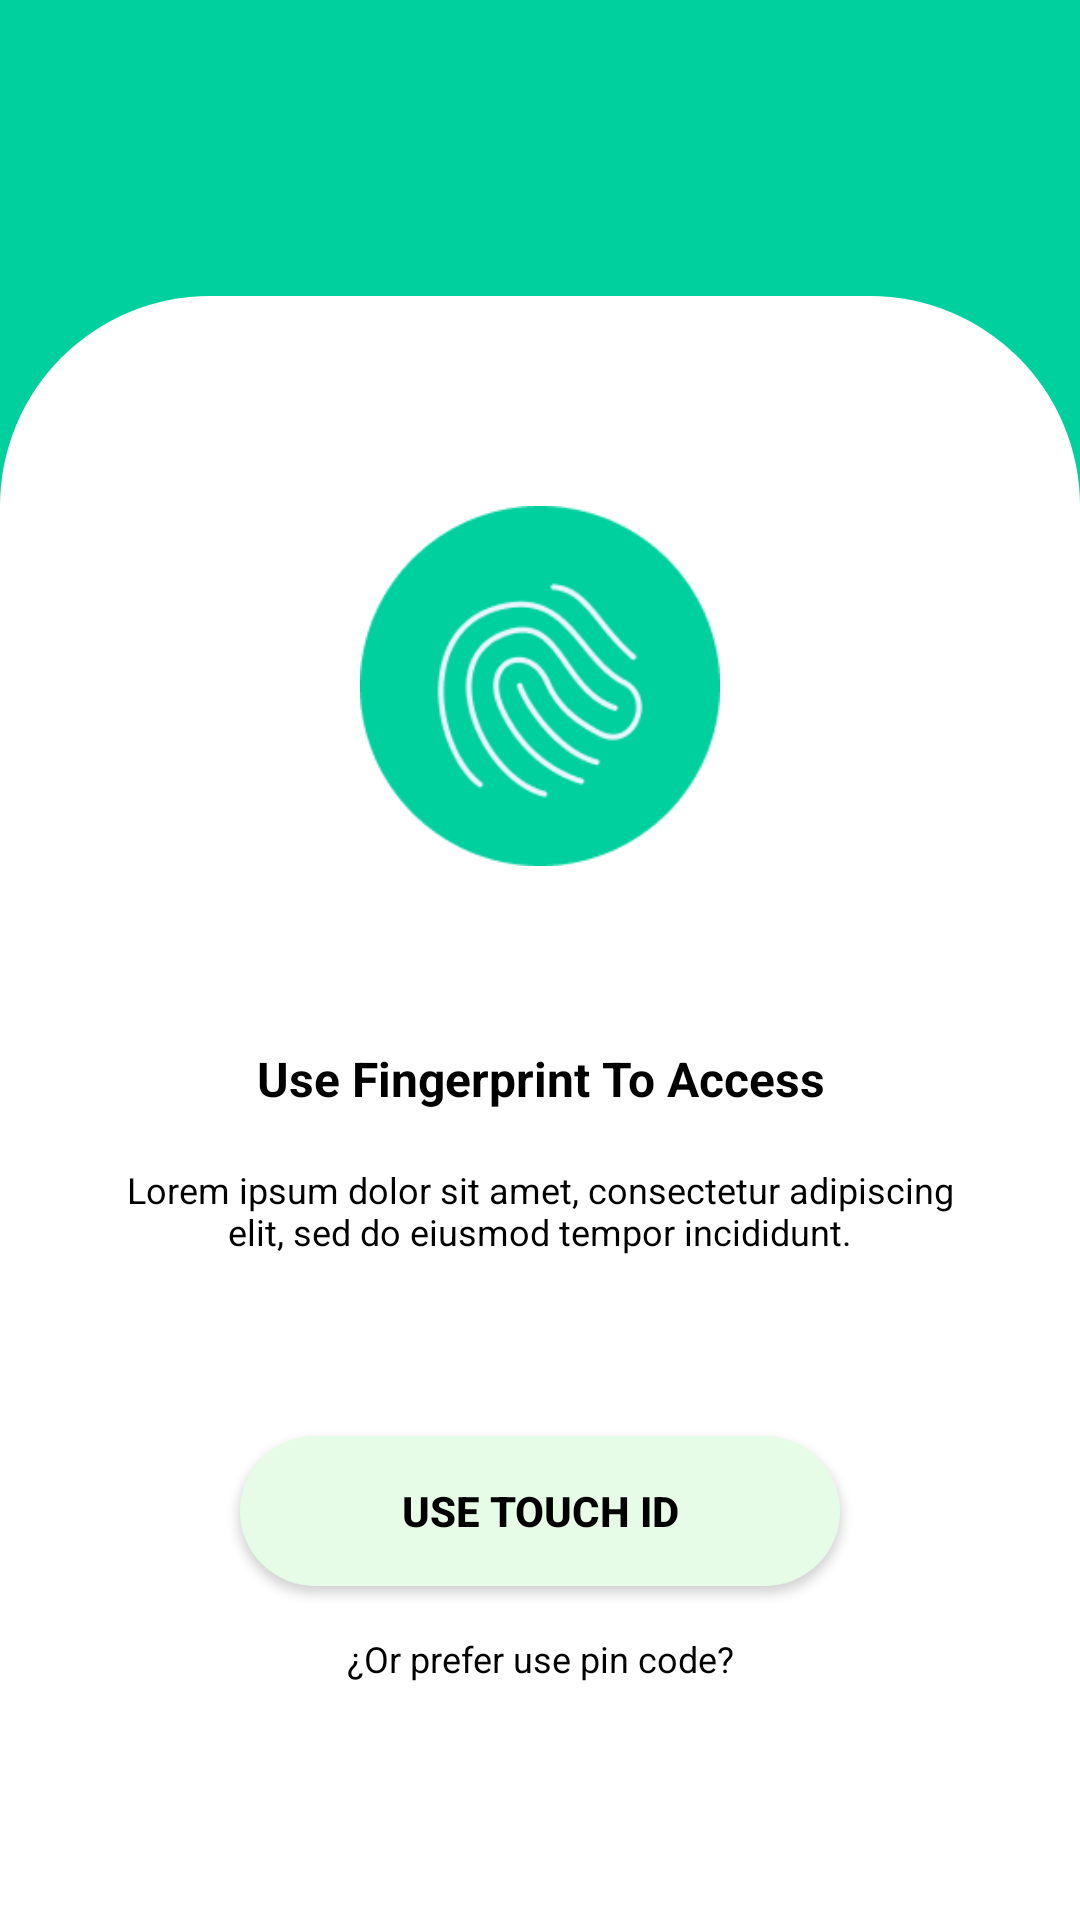

Locate icon controls on the screen. Image size 1080px x 1920px, boxes as box=[x1, y1, x2, y2].
Fingerprint Icon: box=[360, 506, 720, 866]
